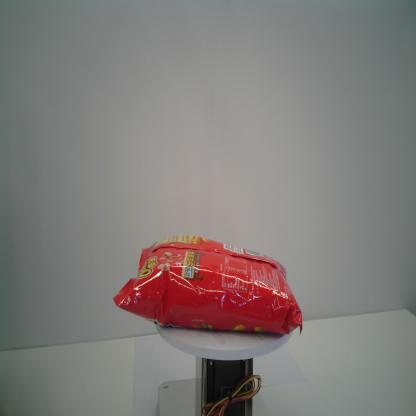Puffed Food: (111, 233, 304, 337)
